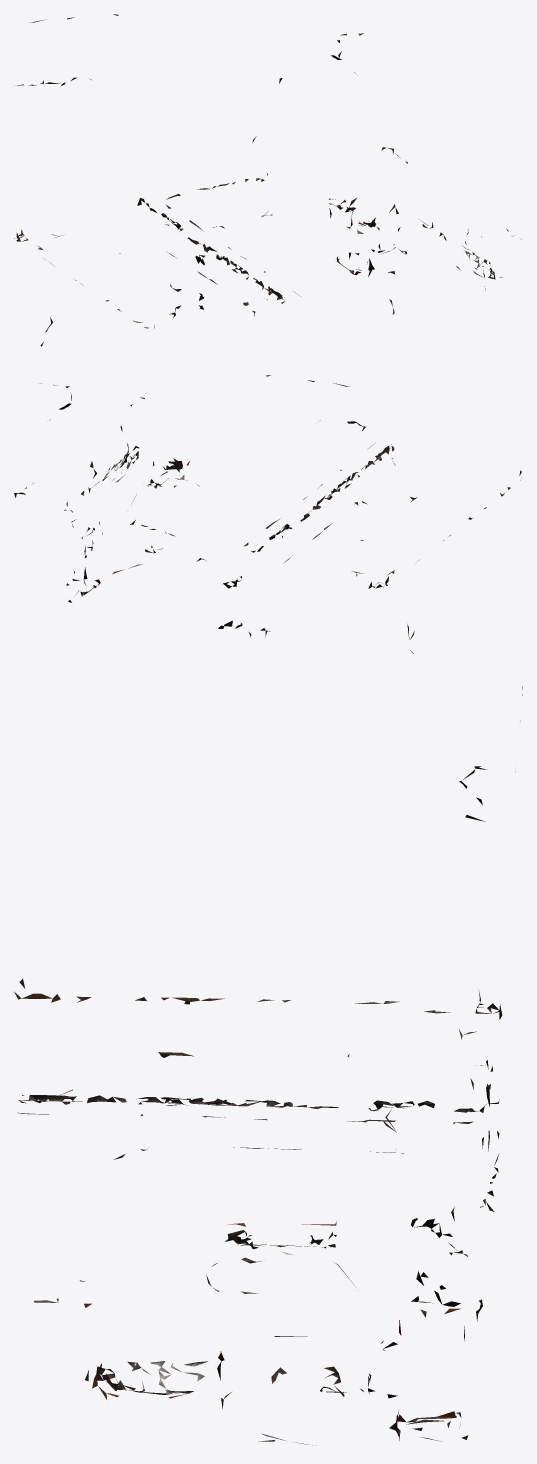
3 renders of one model, top to bottom at view 1: azimuth 30°, elevation 25°; view 2: azimuth 150°, elevation 25°; view 3: azimuth 270°, elevation 25°, orthographic. The views are drawn at different scales.
Size of the model in its own units: 12.01 by 9.21 by 8.22.
1 material, 1 textured.
